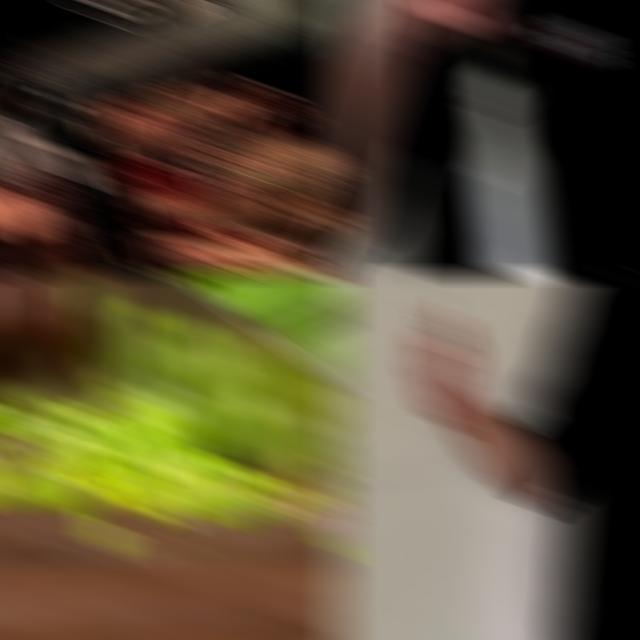Knife_Handle: (0, 272, 348, 481), (370, 0, 560, 278), (400, 272, 477, 433)
